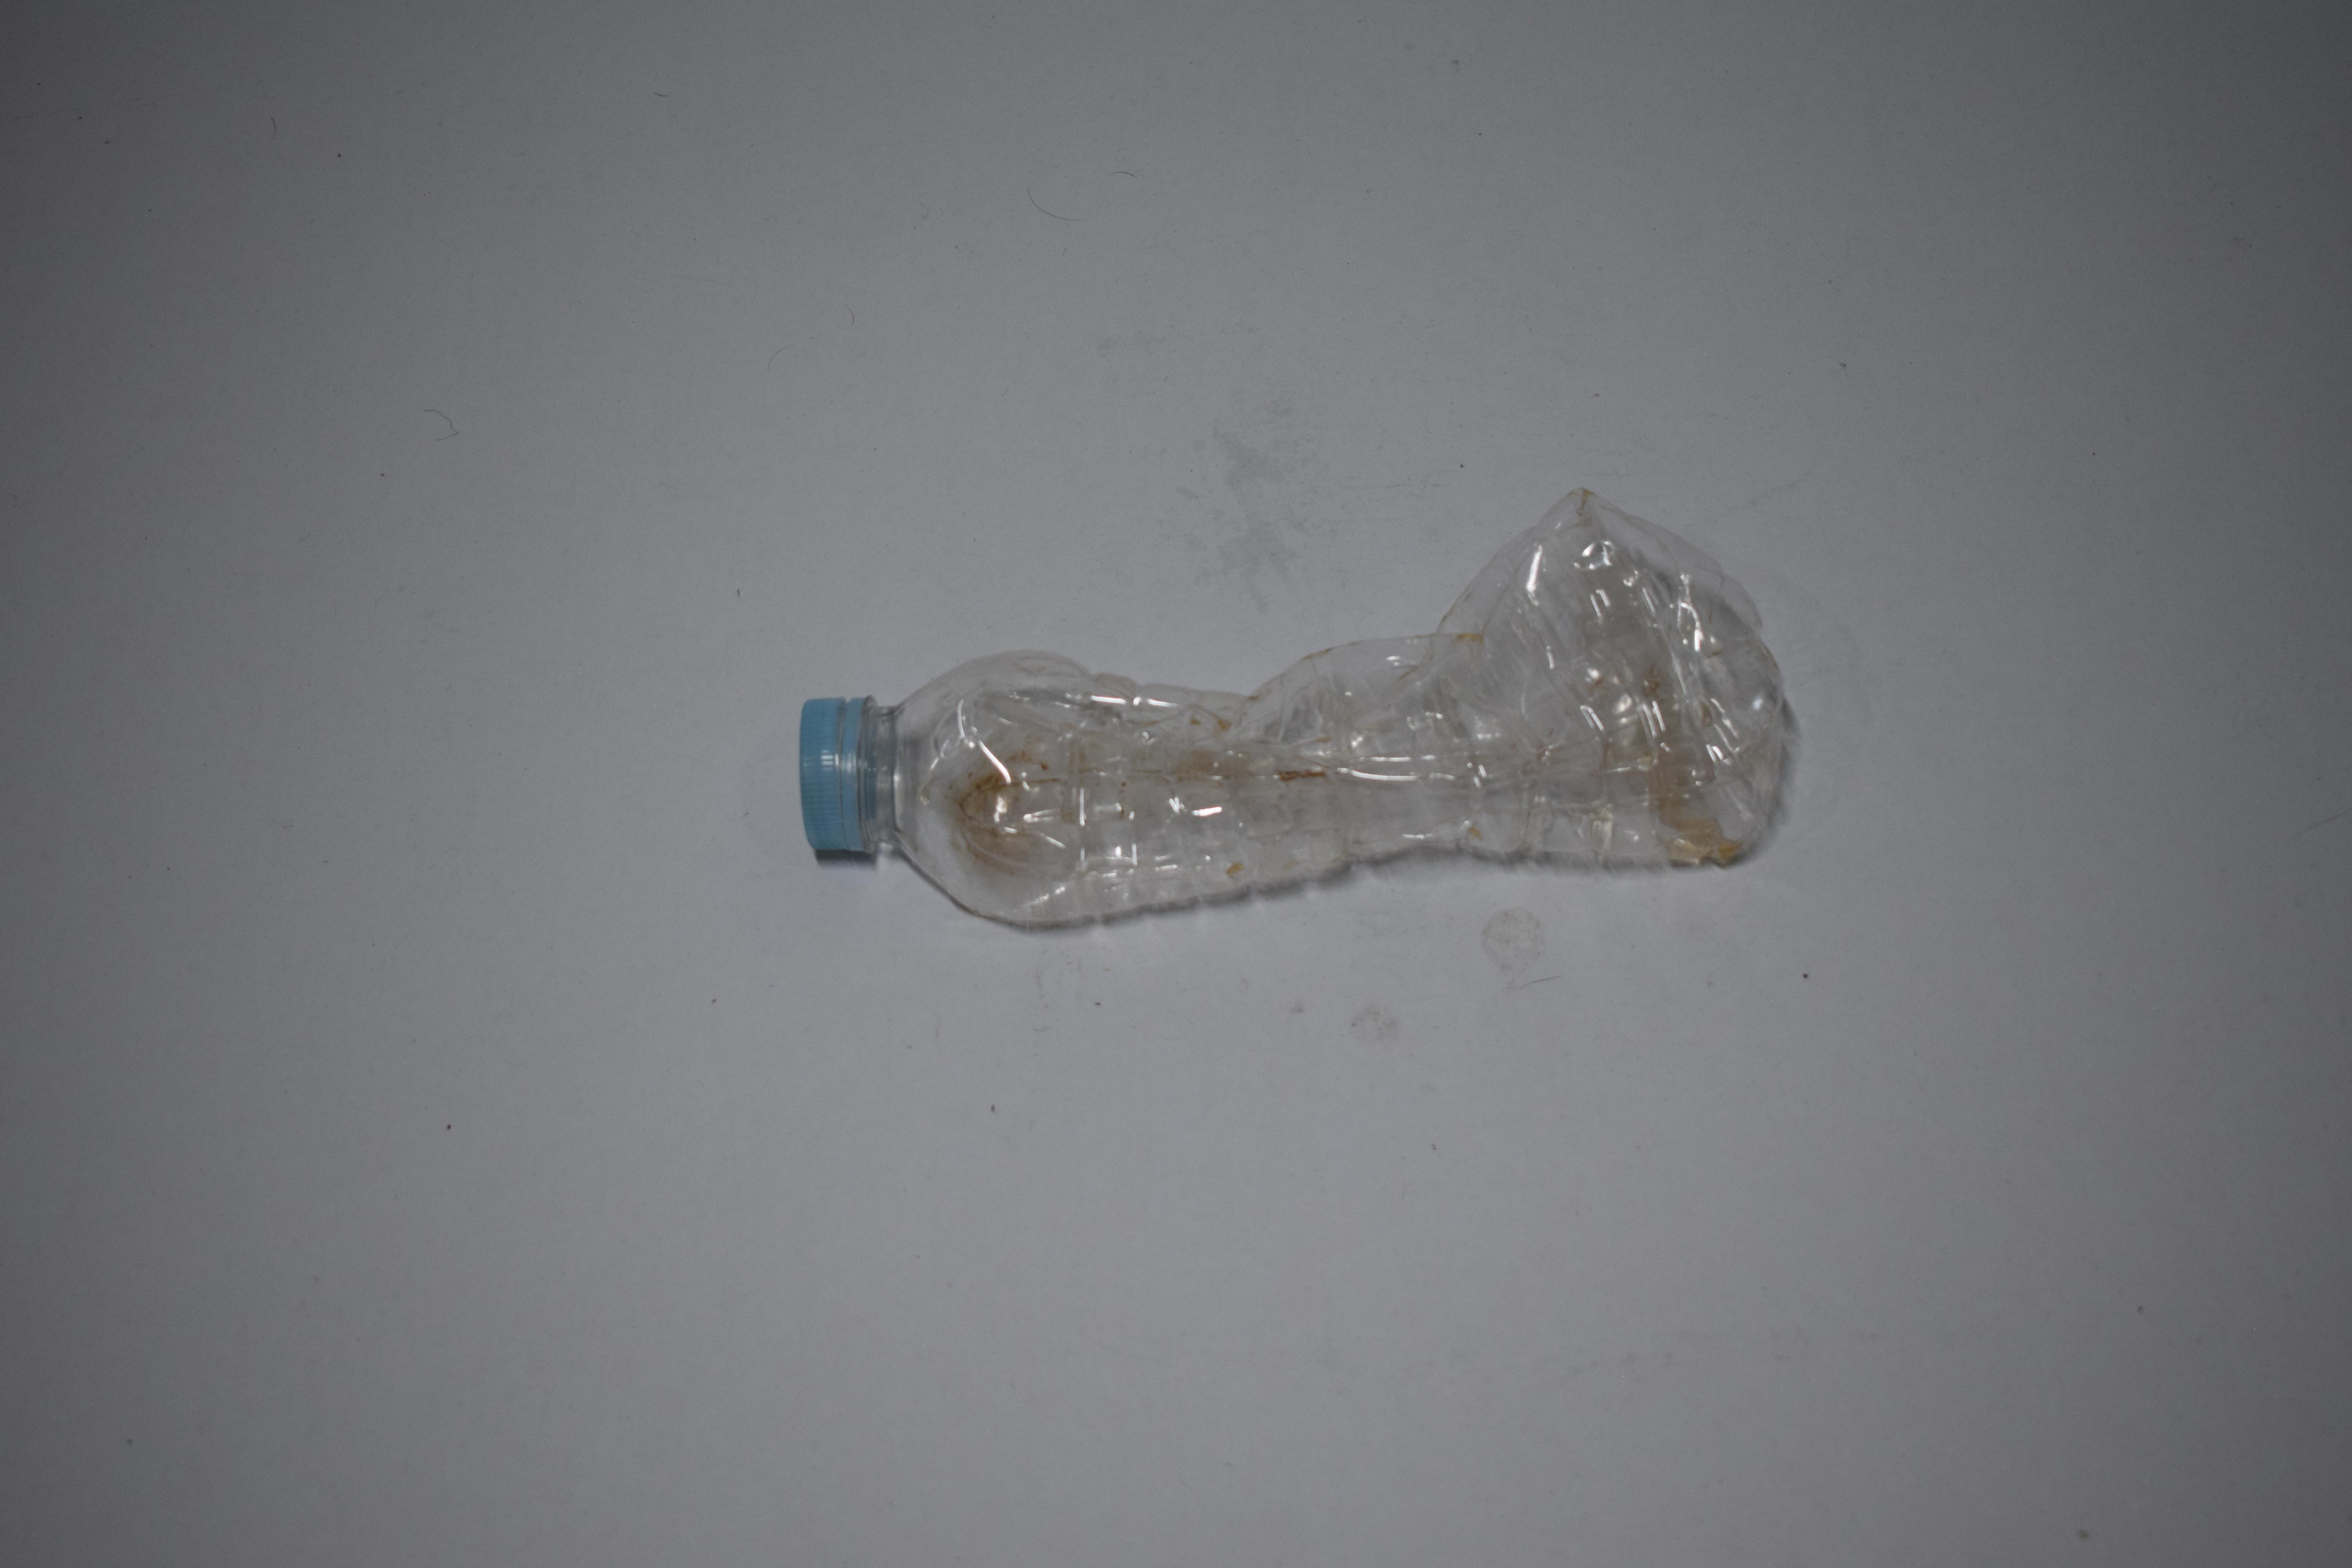bottle: (0, 401, 513, 857)
